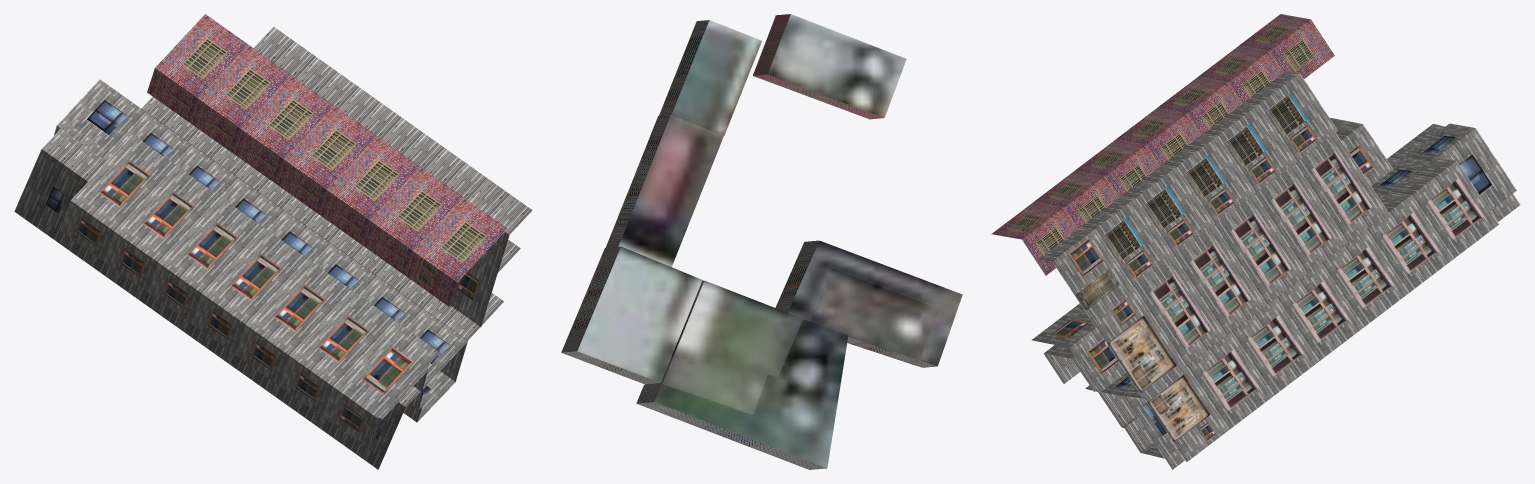
3 renders of one model, left to right at view 1: azimuth 30°, elevation 25°; view 2: azimuth 150°, elevation 25°; view 3: azimuth 270°, elevation 25°, orthographic. The views are drawn at different scales.
Bounding box in the file's own units: 23.86 × 26.44 × 31.43.
28 materials, 28 textured.
